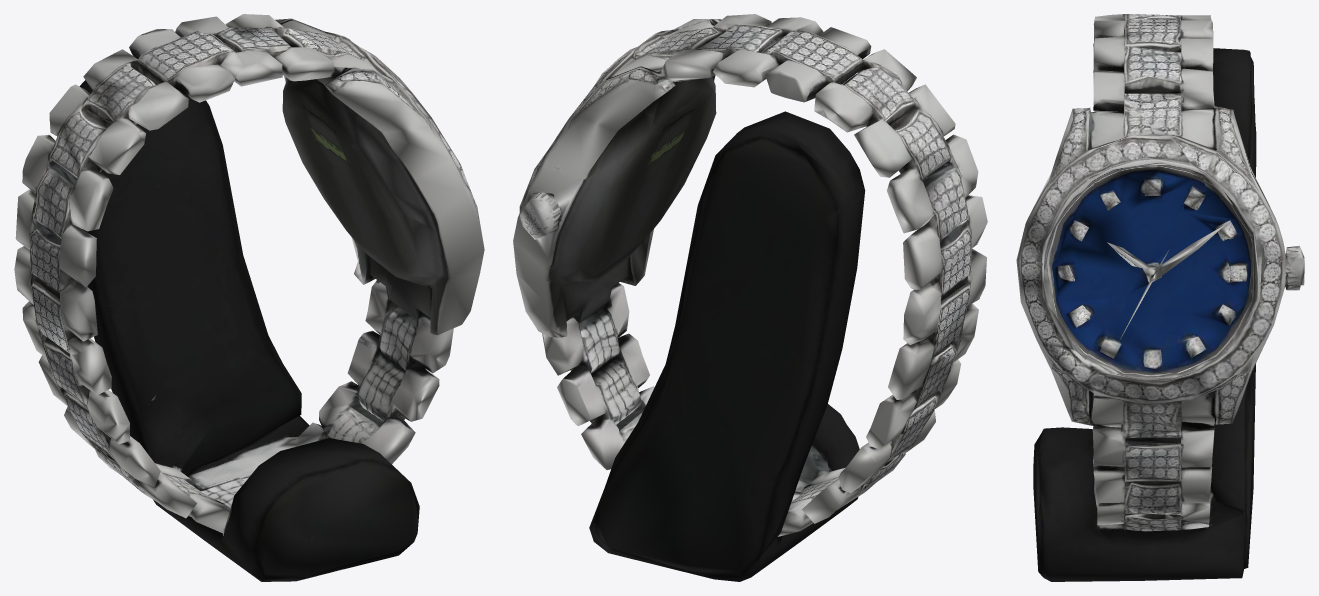
The model's file is watch-luxury-hf.glb.
3 views of the same model, side by side, from view 1: azimuth 30°, elevation 25°; view 2: azimuth 150°, elevation 25°; view 3: azimuth 270°, elevation 25° (orthographic). The views are drawn at different scales.
Visible parts, largest first — view 1: tripo_node_505fb5e3-6deb-492f-9784-0228187419e2; view 2: tripo_node_505fb5e3-6deb-492f-9784-0228187419e2; view 3: tripo_node_505fb5e3-6deb-492f-9784-0228187419e2.
Part boxes in pixels (x1,y1,x2,y2): tripo_node_505fb5e3-6deb-492f-9784-0228187419e2: (14, 14, 484, 581); tripo_node_505fb5e3-6deb-492f-9784-0228187419e2: (513, 14, 987, 581); tripo_node_505fb5e3-6deb-492f-9784-0228187419e2: (1016, 14, 1304, 581).
Bounding box in the file's own units: 0.8269 × 0.9988 × 0.5366.
1 material, 1 textured.
